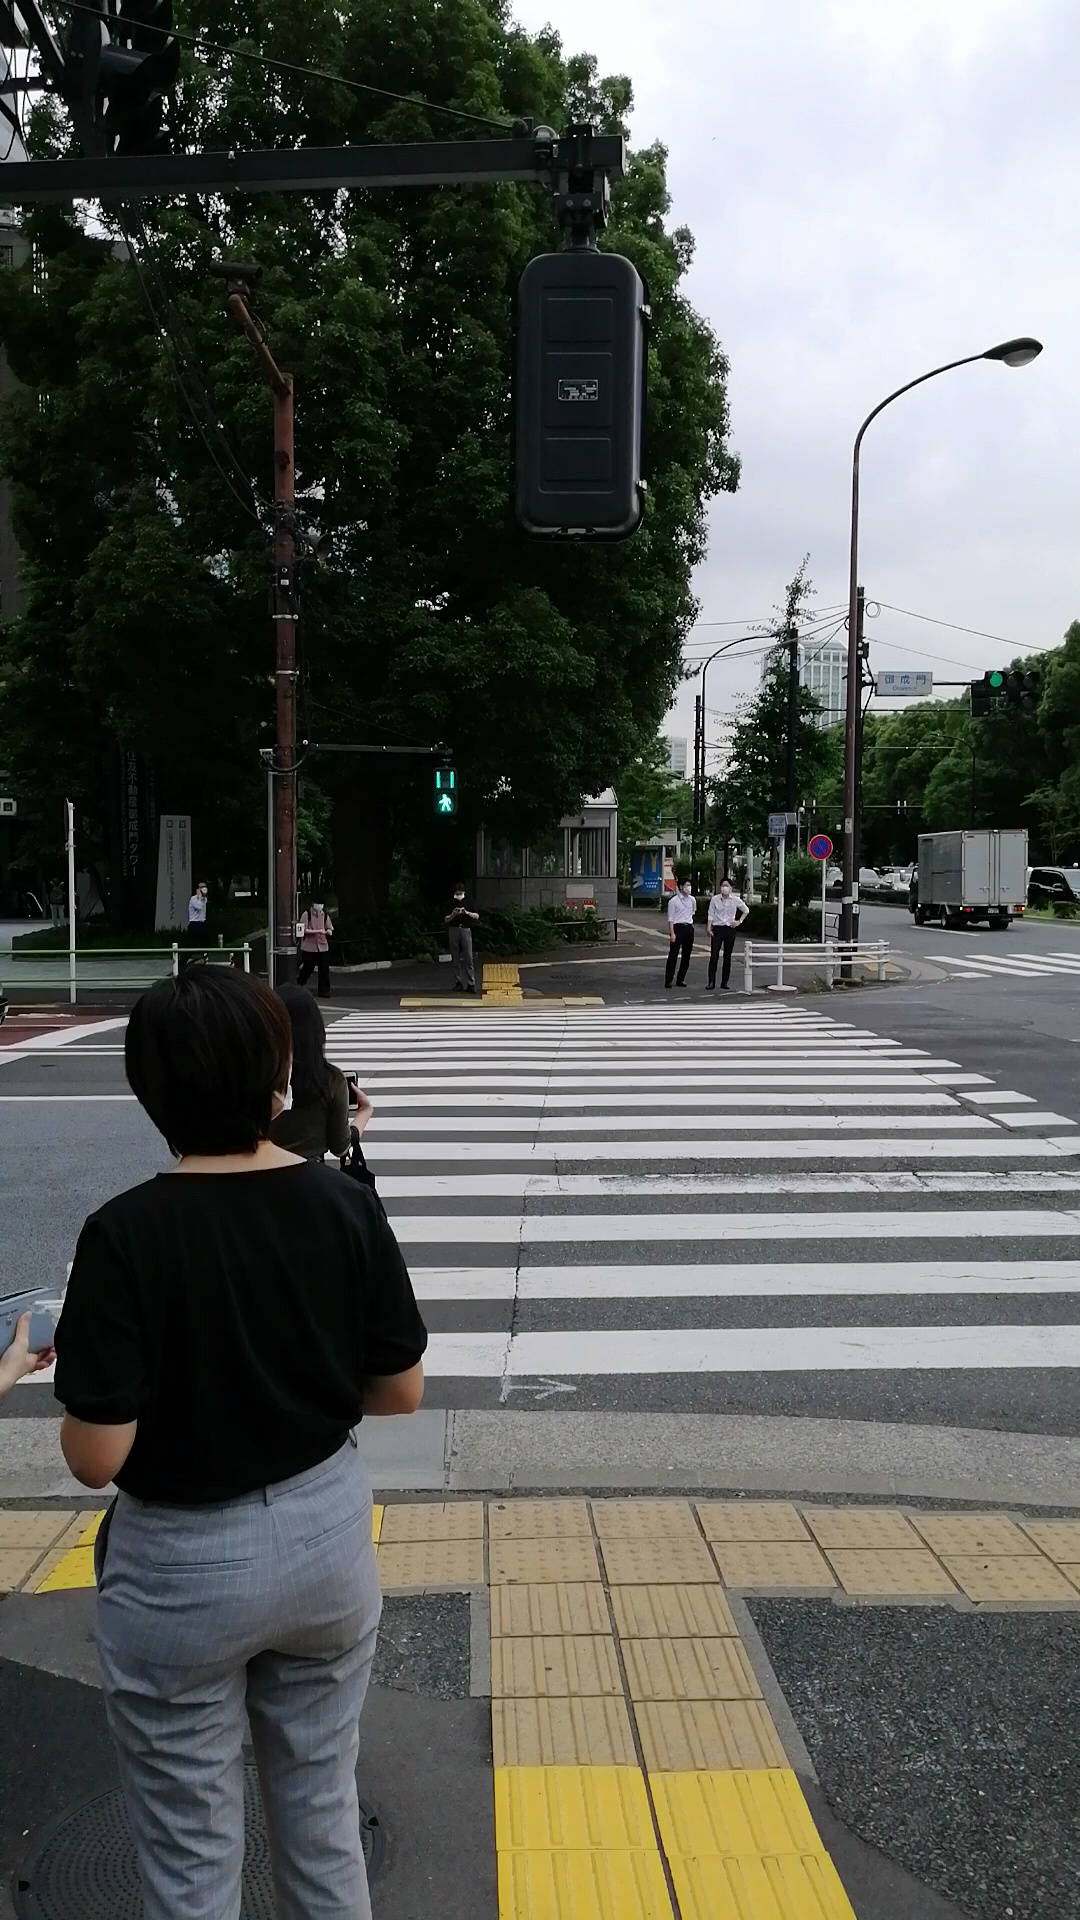green: (431, 762, 459, 818)
